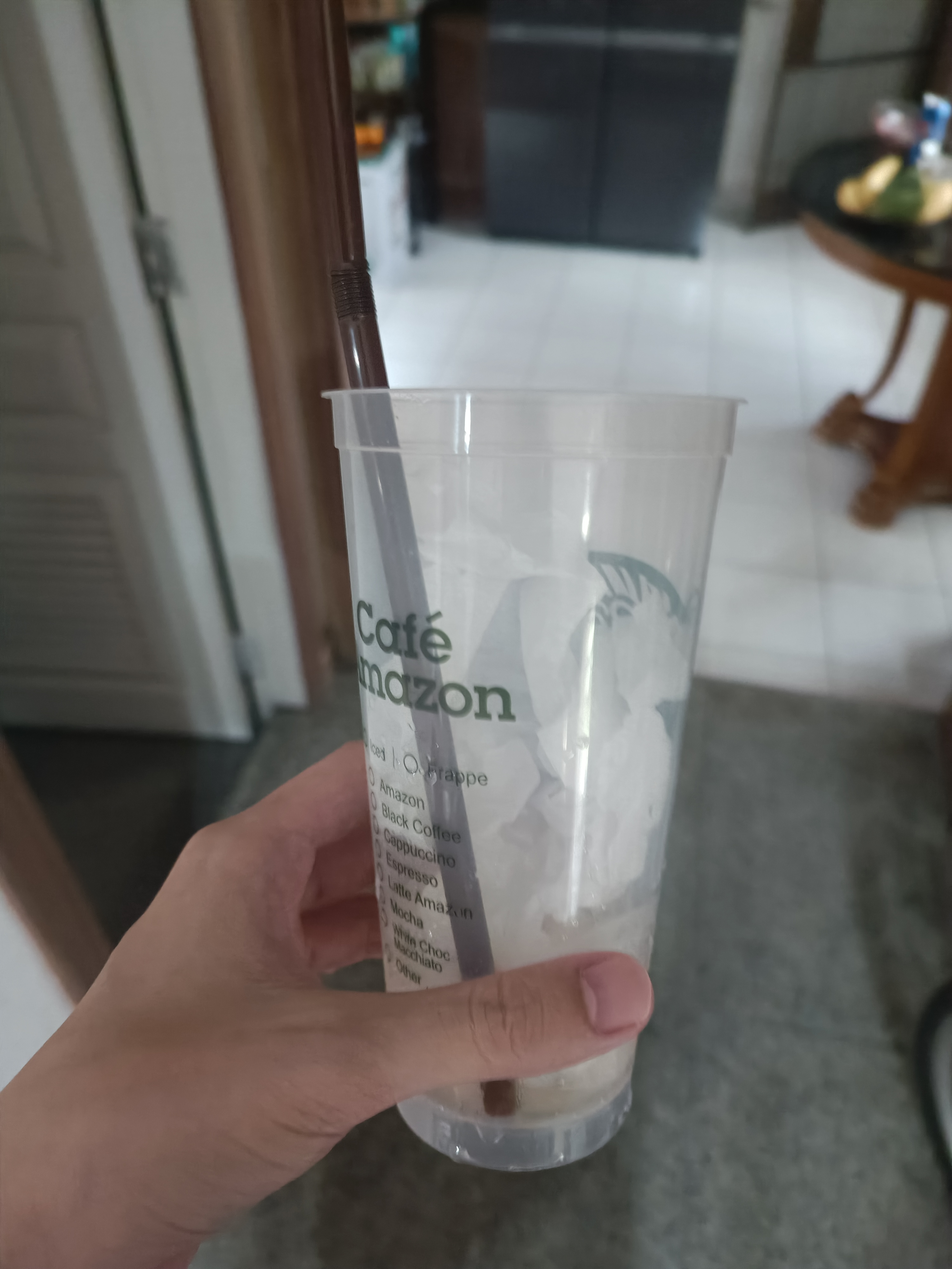plastic: (281, 227, 766, 1173)
